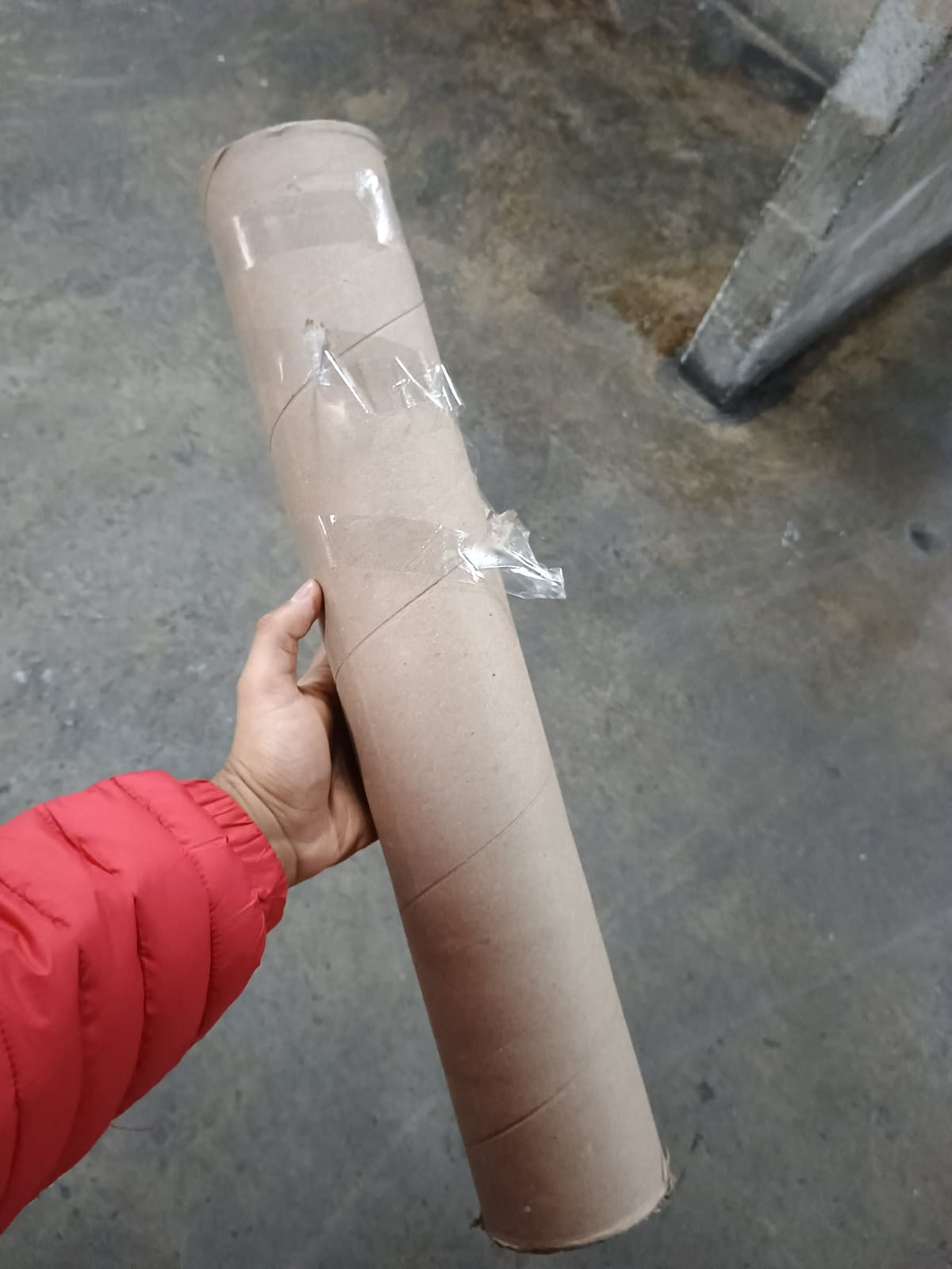Carton: (202, 117, 666, 1251)
